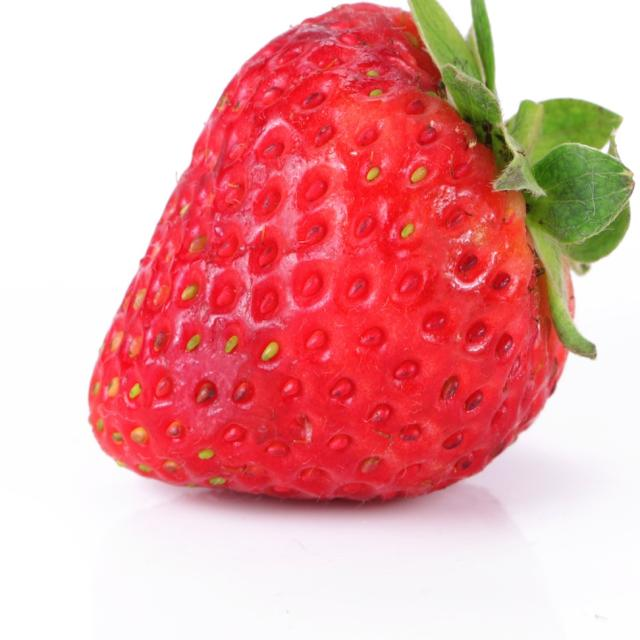strawberry: (63, 0, 638, 523)
